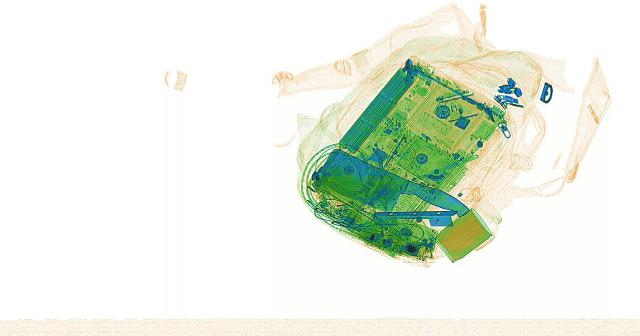Knife: (292, 147, 478, 229)
